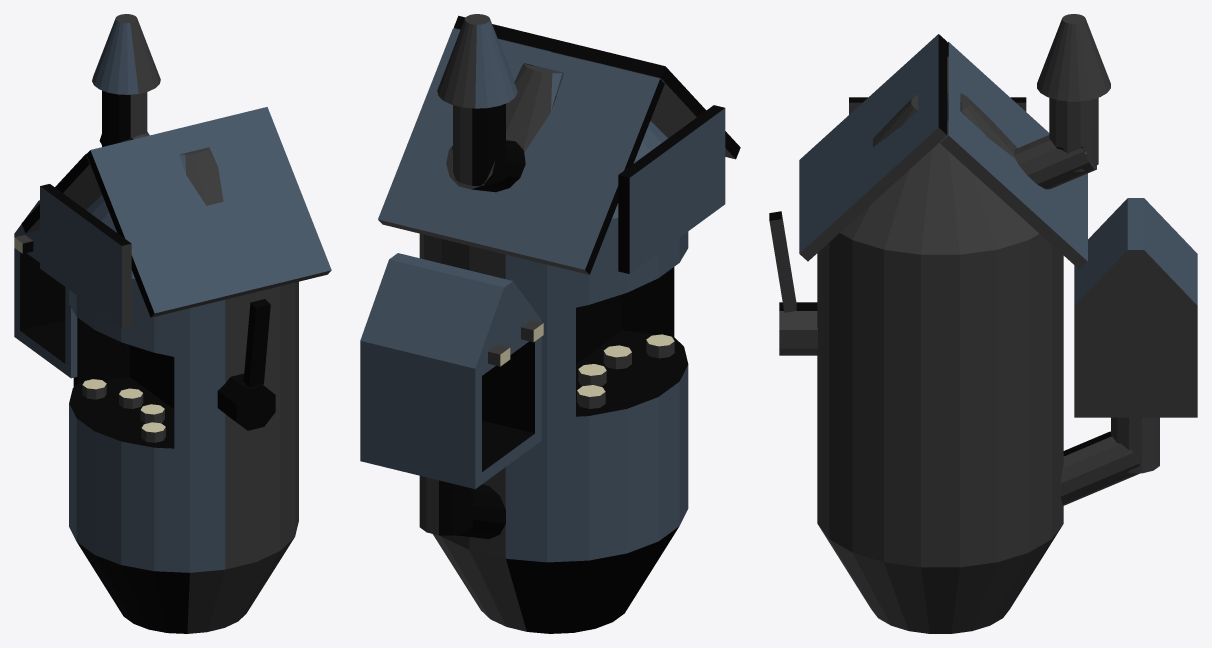
Rendered from SM_Dispenser.fbx.
3 views of the same model, side by side, from view 1: azimuth 30°, elevation 25°; view 2: azimuth 150°, elevation 25°; view 3: azimuth 270°, elevation 25° (orthographic). The views are drawn at different scales.
Visible parts, largest first — view 1: Cylinder_Brush23_StaticMesh2_3; view 2: Cylinder_Brush23_StaticMesh2_3; view 3: Cylinder_Brush23_StaticMesh2_3.
Boxes of the visible parts, bbox=[...] form: Cylinder_Brush23_StaticMesh2_3: bbox=[14, 14, 331, 633]; Cylinder_Brush23_StaticMesh2_3: bbox=[360, 14, 740, 633]; Cylinder_Brush23_StaticMesh2_3: bbox=[769, 14, 1197, 633].
Bounding box in the file's own units: 51.5 × 86.88 × 132.
